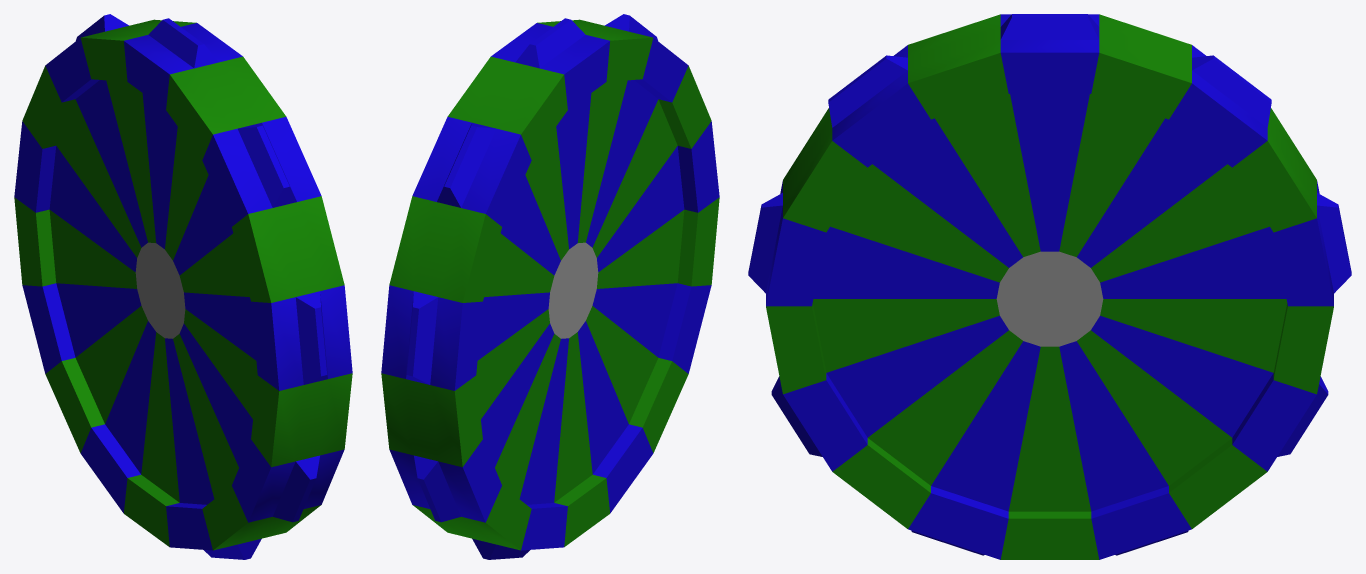
Rendered from SpikedWheel.FBX.
The picture shows the model from 3 angles, left to right: view 1: azimuth 30°, elevation 25°; view 2: azimuth 150°, elevation 25°; view 3: azimuth 270°, elevation 25°; orthographic projection. The views are drawn at different scales.
Parts seen in each view (by area): view 1: Wheel002; view 2: Wheel002; view 3: Wheel002.
Part boxes in pixels (x1,y1,x2,y2): Wheel002: (14,14,352,559); Wheel002: (381,14,719,559); Wheel002: (748,14,1351,559).
Bounding box in the file's own units: 8 × 52.27 × 53.08.
